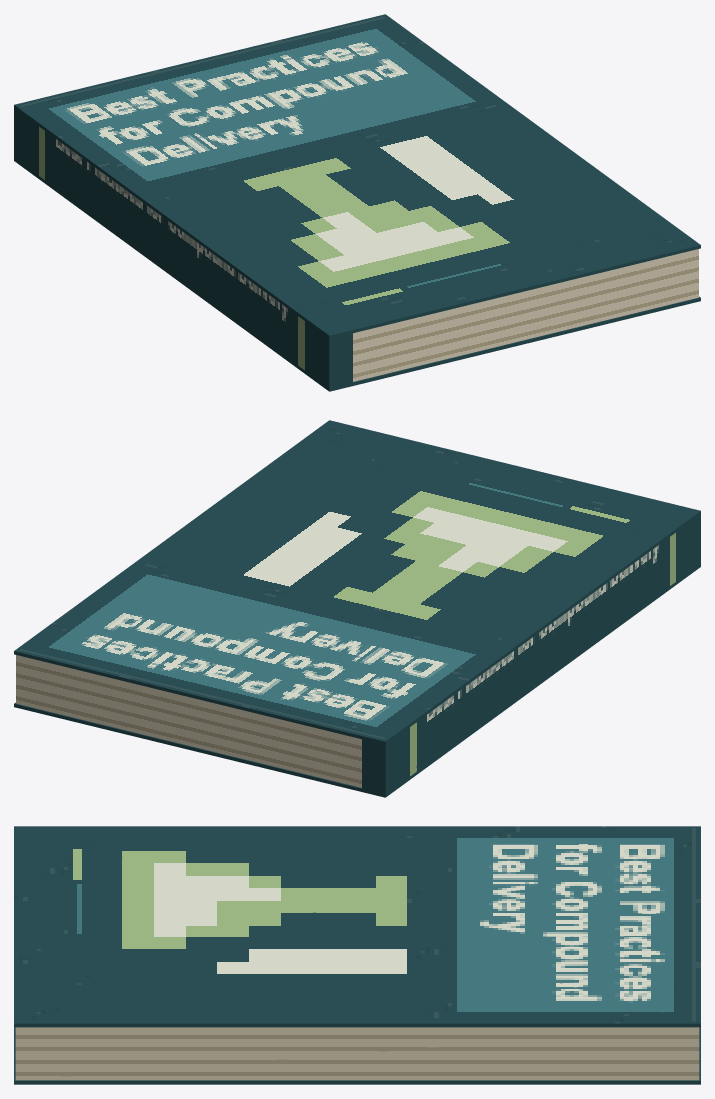
Rendered from recipe_serum.glb.
The picture shows the model from 3 angles, top to bottom: view 1: azimuth 30°, elevation 25°; view 2: azimuth 150°, elevation 25°; view 3: azimuth 270°, elevation 25°; orthographic projection. The views are drawn at different scales.
Parts seen in each view (by area): view 1: block_front cover, block_page block, block_spine, block_back cover; view 2: block_front cover, block_page block, block_spine, block_back cover; view 3: block_front cover, block_page block, block_back cover.
Part boxes in pixels (left/top/right/bottom): block_front cover: left=14, top=14, right=700, bottom=338; block_page block: left=353, top=249, right=698, bottom=381; block_spine: left=14, top=108, right=352, bottom=388; block_back cover: left=14, top=158, right=700, bottom=391; block_front cover: left=14, top=420, right=700, bottom=744; block_page block: left=16, top=655, right=361, bottom=787; block_spine: left=362, top=514, right=700, bottom=794; block_back cover: left=14, top=564, right=700, bottom=797; block_front cover: left=14, top=826, right=700, bottom=1027; block_page block: left=15, top=1027, right=699, bottom=1080; block_back cover: left=14, top=1027, right=700, bottom=1084.
Bounding box in the file's own units: 0.1414 × 0.0204 × 0.208.
1 material, 1 textured.
